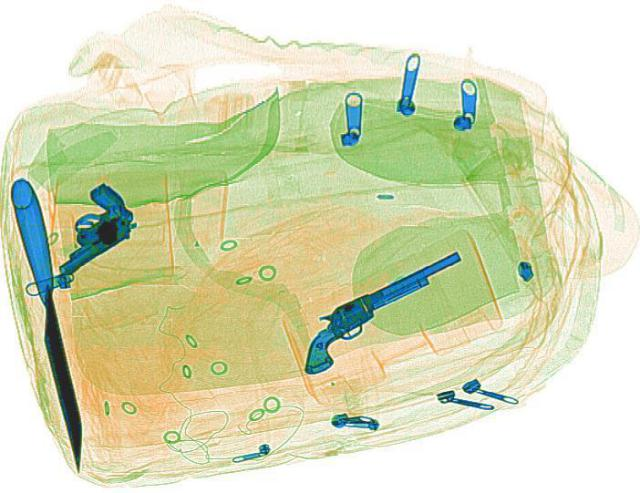Gun: (270, 248, 492, 375), (17, 180, 153, 275)
Knife: (5, 175, 96, 470)
